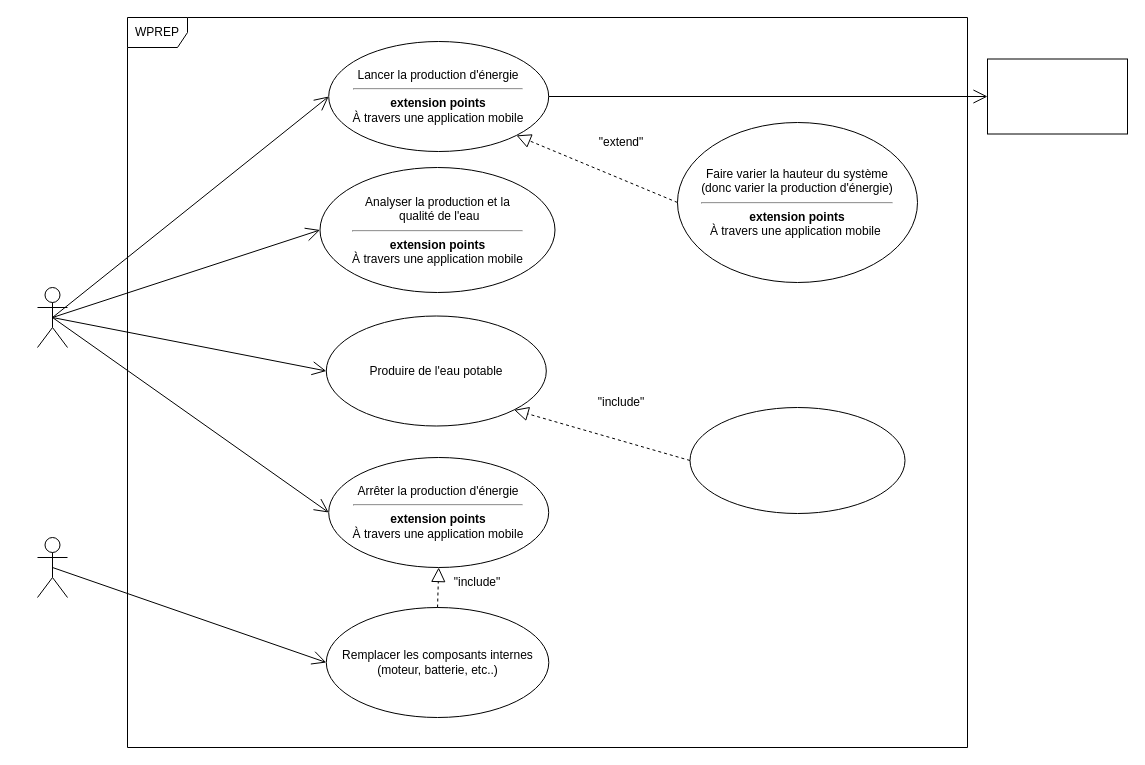
The diagram is 1145 pixels wide and 765 high, and some of its shapes have lost their labels. Each missing label, with the centre of its shape:
"L'eau (de la mer, lac, rivière, etc...)" belongs at point 1057,96.
"Mettre le module permettant de dessaler l'eau récupérée de la mer." belongs at point 797,460.
"Utilisateur" belongs at point 52,317.
"Utilisateur de maintenance" belongs at point 52,567.
